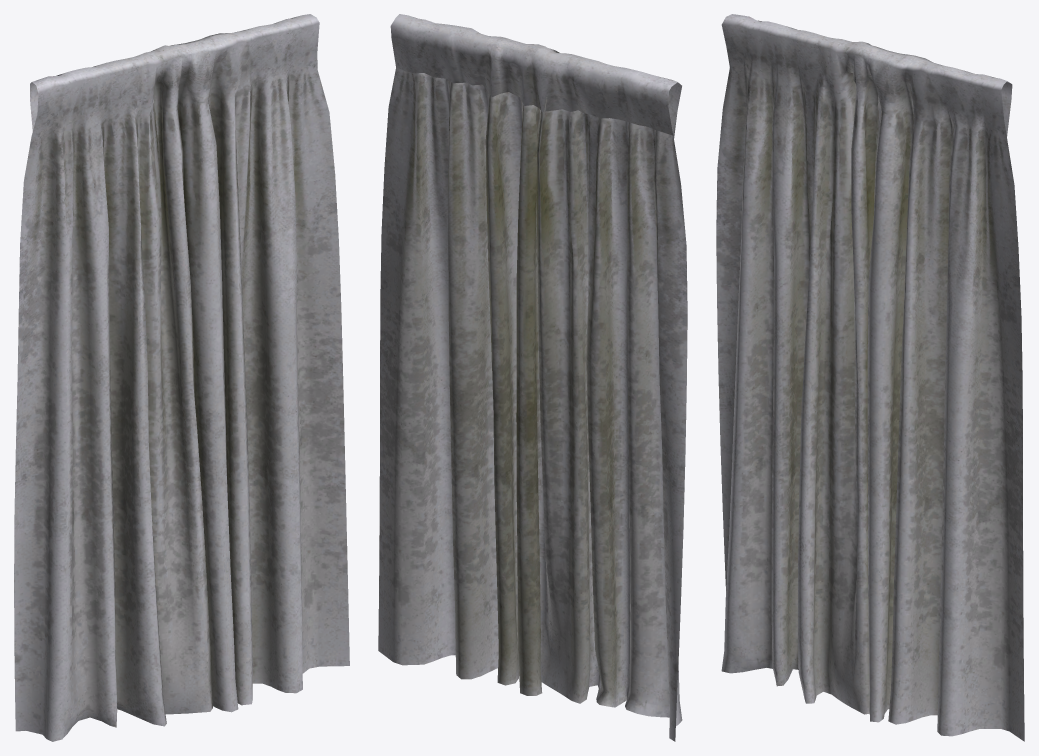
Rendered from Curtain_open.fbx.
3 renders of one model, left to right at view 1: azimuth 30°, elevation 25°; view 2: azimuth 150°, elevation 25°; view 3: azimuth 330°, elevation 25°, orthographic.
Parts seen in each view (by area): view 1: Curtain_open_LOD0; view 2: Curtain_open_LOD0; view 3: Curtain_open_LOD0.
Boxes of the visible parts, <box> form: Curtain_open_LOD0: <box>14,14,349,741</box>; Curtain_open_LOD0: <box>378,14,687,741</box>; Curtain_open_LOD0: <box>716,14,1024,741</box>.
Bounding box in the file's own units: 79.18 × 155 × 15.7.
